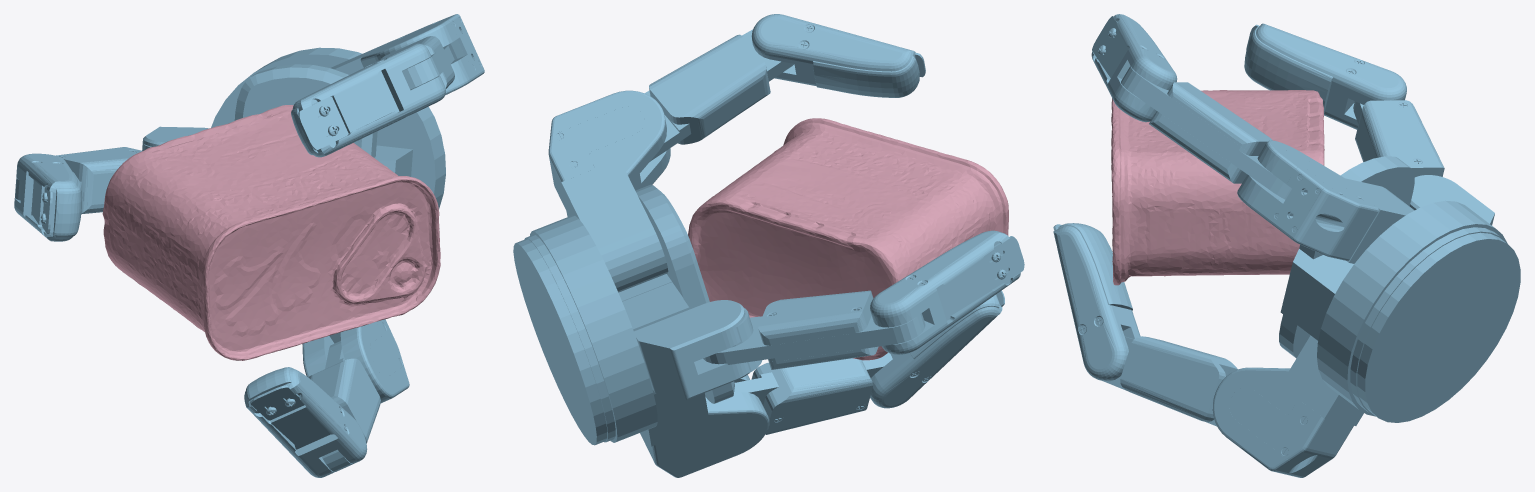
3 renders of one model, left to right at view 1: azimuth 30°, elevation 25°; view 2: azimuth 150°, elevation 25°; view 3: azimuth 270°, elevation 25°, orthographic. The views are drawn at different scales.
Parts seen in each view (by area): view 1: potted_meat_can.stl, world; view 2: world, potted_meat_can.stl; view 3: world, potted_meat_can.stl.
Boxes of the visible parts, box(x1,y1,x2,y2) form: potted_meat_can.stl: box(102, 105, 440, 360); world: box(14, 14, 484, 477); world: box(513, 14, 1024, 477); potted_meat_can.stl: box(688, 118, 1008, 360); world: box(1053, 14, 1520, 477); potted_meat_can.stl: box(1111, 90, 1324, 285).
Size of the model in its own units: 0.1995 by 0.177 by 0.1829.
